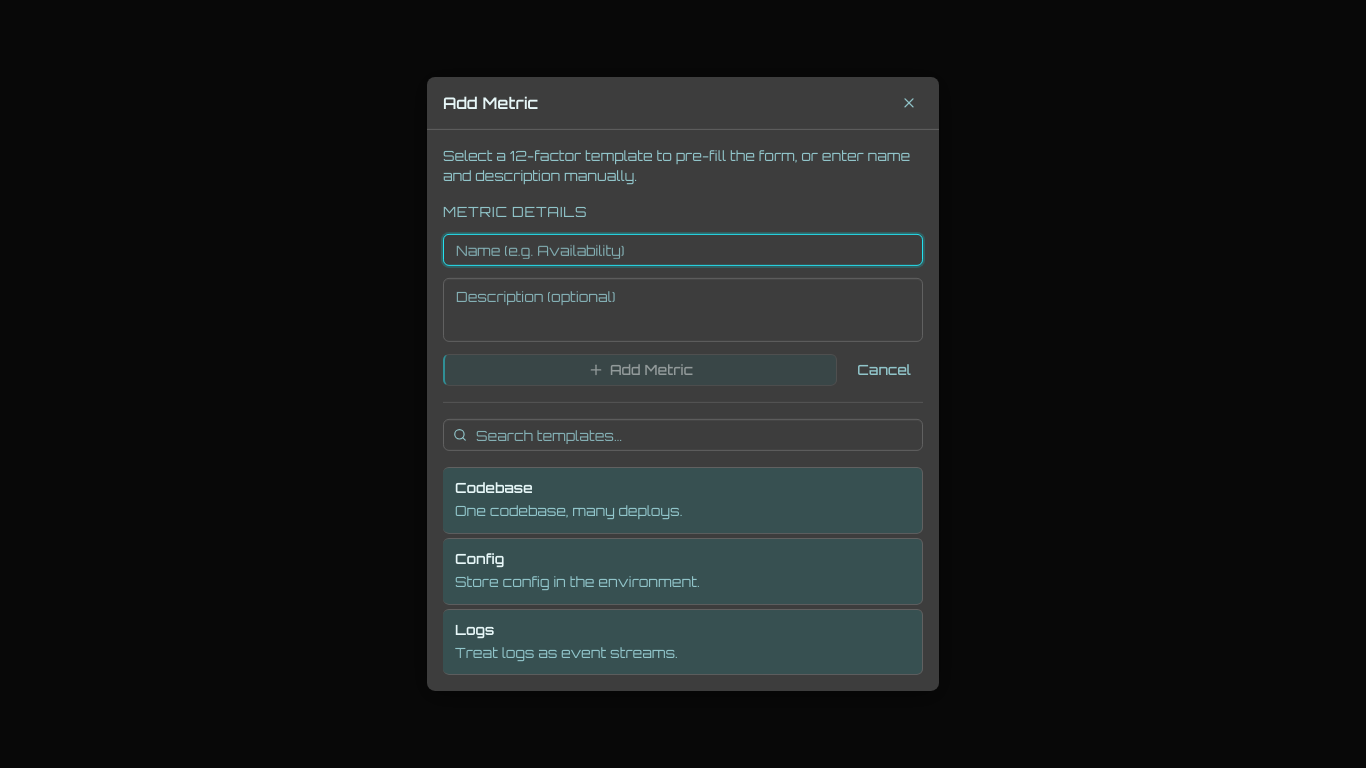
Scenario: MetricTemplateSelector › clicking a template pre-fills name and description in the form
Click the text "Codebase" at [494, 487], box x1=455 y1=479 x2=533 y2=496
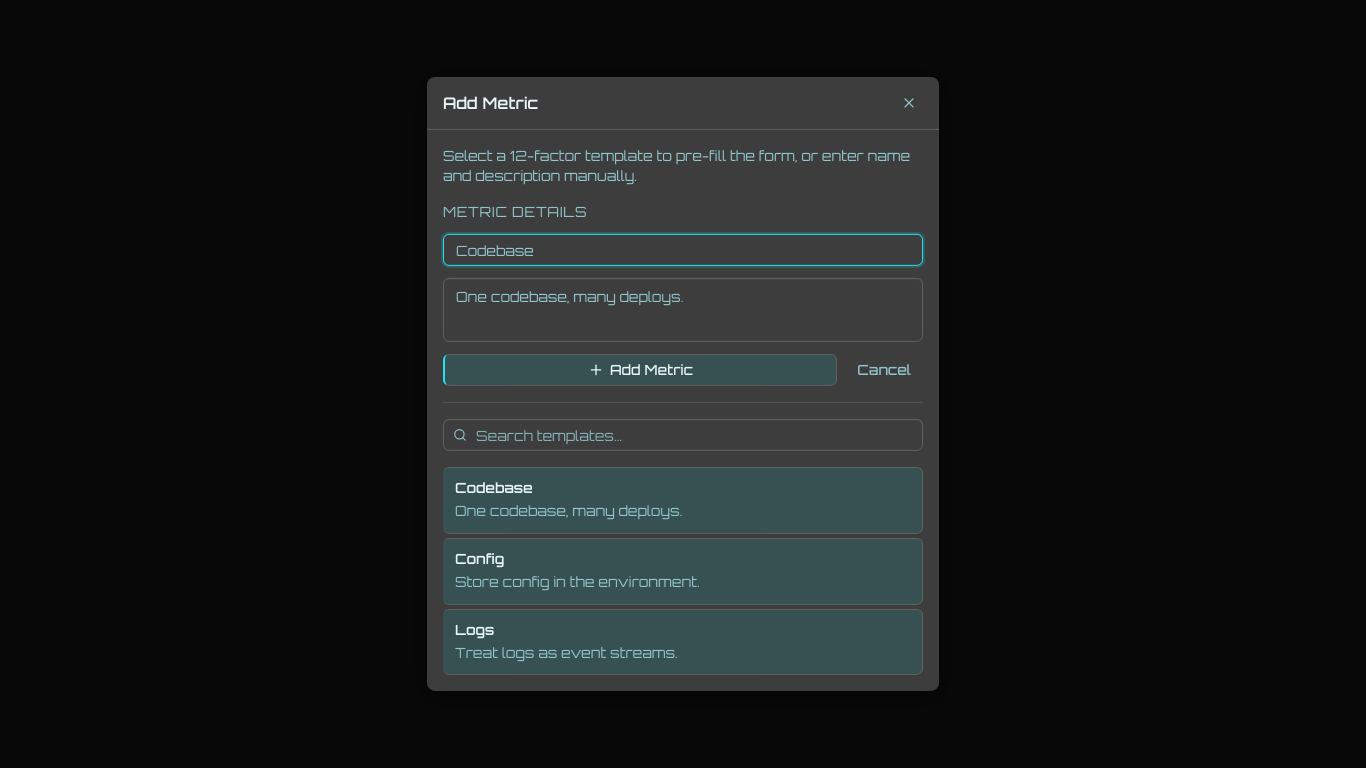
Now the field with placeholder "Name (e.g. Availability)" holds "Codebase", box x1=443 y1=234 x2=923 y2=266
Now the text box with placeholder "Description (optional)" holds "One codebase, many deploys.", box x1=443 y1=278 x2=923 y2=342
